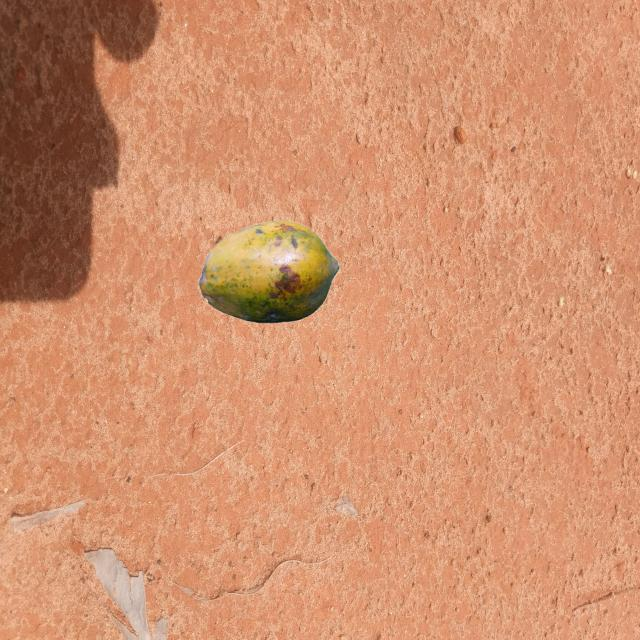Pepaya rippen: (199, 207, 345, 341)
